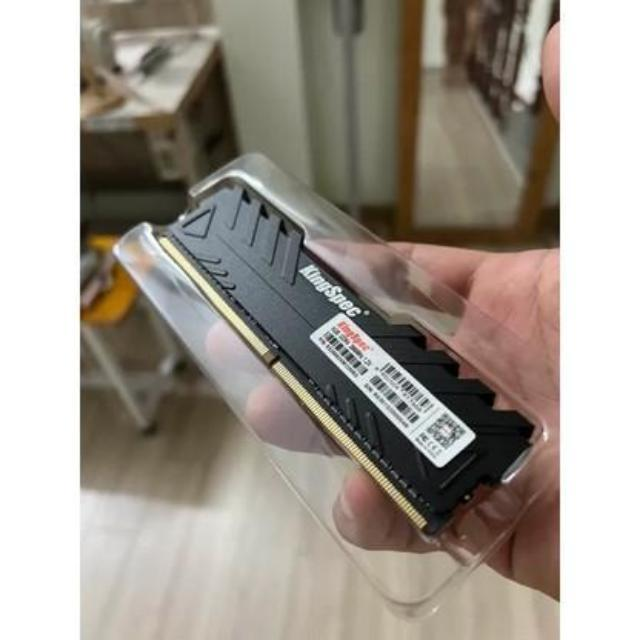RAM: (150, 182, 541, 540)
